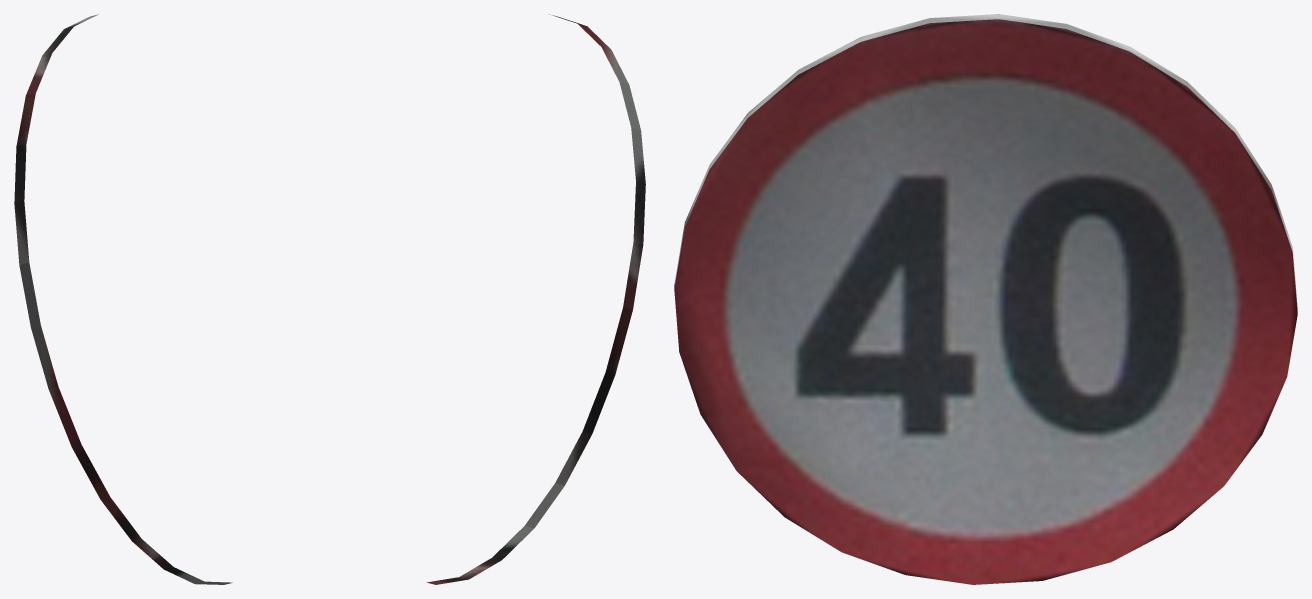
3 renders of one model, left to right at view 1: azimuth 30°, elevation 25°; view 2: azimuth 150°, elevation 25°; view 3: azimuth 270°, elevation 25°, orthographic. The views are drawn at different scales.
Parts seen in each view (by area): view 1: model04; view 2: model04; view 3: model04.
Boxes of the visible parts, x1,y1,x2,y2 form: model04: [14, 14, 232, 584]; model04: [426, 14, 645, 584]; model04: [674, 14, 1297, 584].
Bounding box in the file's own units: 0.0396 × 1.19 × 1.19.
Materials: 3 (3 with a texture image).
